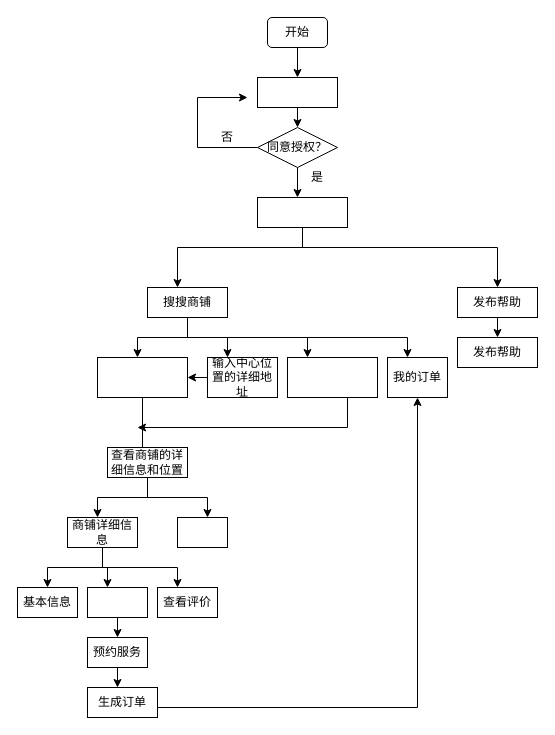
Image size: 555x735. Some labels were removed from this diagram. The shapes that lost their labels are listed below. From the top down, each one's centre as x and y in pixels, then its label:
At (x=297, y=92): "微信授权登录".
At (x=302, y=212): "进入搜街主页".
At (x=142, y=377): "显示所在位置2.5km范围内的商铺".
At (x=332, y=377): "输入商铺名字搜索2.5km范围内的指定商铺".
At (x=202, y=532): "导航".
At (x=117, y=602): "服务列表".
